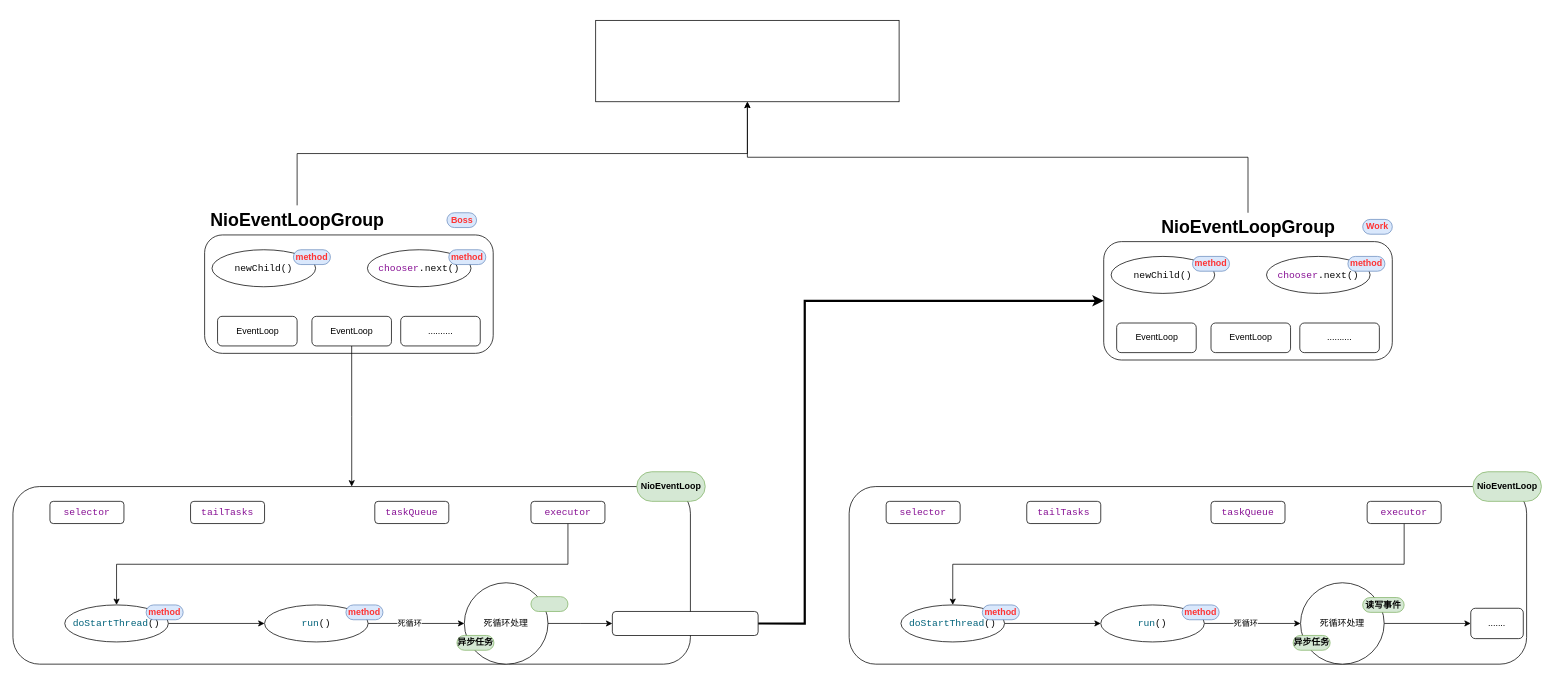
Image size: 1555x677. Some labels were removed from this diagram. Each missing label, with the centre of its shape:
MultithreadEventExecutorGroup NioEventLoopGroup的父类，所有的EventLoop的创建以及分配在这里完成: the point at 747,61
ServerBootstrapAcceptor: the point at 685,623
新连接: the point at 549,603
